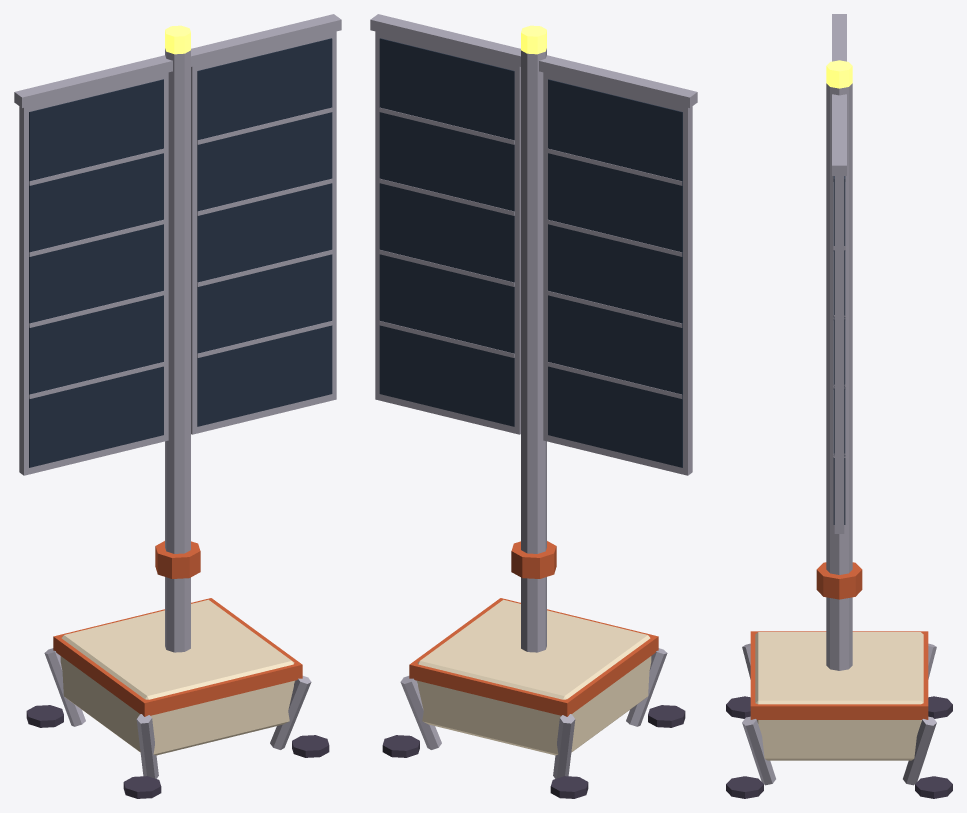
The model's file is MOONSHIFT_FAC_Solar_Tower.glb.
3 renders of one model, left to right at view 1: azimuth 30°, elevation 25°; view 2: azimuth 150°, elevation 25°; view 3: azimuth 270°, elevation 25°, orthographic. The views are drawn at different scales.
Visible parts, largest first — view 1: SolarT_Panel1, SolarT_Panel-1, SolarT_Base, SolarT_Mast, SolarT_Frame-1, SolarT_Frame1, SolarT_TopBar, SolarT_BaseBand, SolarT_MastCollar, SolarT_Leg2, SolarT_Leg3, SolarT_Leg1 (+12 smaller); view 2: SolarT_Panel1, SolarT_Panel-1, SolarT_Base, SolarT_Mast, SolarT_Frame-1, SolarT_Frame1, SolarT_TopBar, SolarT_BaseBand, SolarT_MastCollar, SolarT_Leg0, SolarT_Leg1, SolarT_Leg3 (+12 smaller); view 3: SolarT_Base, SolarT_Mast, SolarT_Frame1, SolarT_BaseBand, SolarT_TopBar, SolarT_Panel1, SolarT_MastCollar, SolarT_Leg0, SolarT_Leg2, SolarT_Foot0, SolarT_Foot2, SolarT_Beacon (+2 smaller).
Part boxes in pixels (left/top/right/bottom): SolarT_Panel1: left=197, top=38, right=332, bottom=426; SolarT_Panel-1: left=29, top=79, right=163, bottom=467; SolarT_Base: left=60, top=599, right=294, bottom=755; SolarT_Mast: left=165, top=48, right=190, bottom=652; SolarT_Frame-1: left=19, top=72, right=168, bottom=475; SolarT_Frame1: left=191, top=31, right=336, bottom=434; SolarT_TopBar: left=14, top=14, right=341, bottom=107; SolarT_BaseBand: left=53, top=598, right=302, bottom=716; SolarT_MastCollar: left=155, top=541, right=200, bottom=578; SolarT_Leg2: left=270, top=676, right=311, bottom=749; SolarT_Leg3: left=136, top=714, right=158, bottom=778; SolarT_Leg1: left=44, top=648, right=85, bottom=726; SolarT_Panel1: left=379, top=38, right=514, bottom=426; SolarT_Panel-1: left=548, top=79, right=682, bottom=467; SolarT_Base: left=417, top=599, right=651, bottom=755; SolarT_Mast: left=521, top=48, right=546, bottom=652; SolarT_Frame-1: left=543, top=72, right=692, bottom=475; SolarT_Frame1: left=375, top=31, right=520, bottom=434; SolarT_TopBar: left=370, top=14, right=697, bottom=107; SolarT_BaseBand: left=409, top=598, right=658, bottom=716; SolarT_MastCollar: left=511, top=541, right=556, bottom=578; SolarT_Leg0: left=400, top=676, right=441, bottom=749; SolarT_Leg1: left=553, top=714, right=575, bottom=778; SolarT_Leg3: left=626, top=648, right=667, bottom=726; SolarT_Base: left=755, top=632, right=923, bottom=760; SolarT_Mast: left=826, top=83, right=852, bottom=670; SolarT_Frame1: left=834, top=176, right=844, bottom=533; SolarT_BaseBand: left=750, top=631, right=928, bottom=719; SolarT_TopBar: left=832, top=14, right=846, bottom=175; SolarT_Panel1: left=833, top=176, right=845, bottom=524; SolarT_MastCollar: left=816, top=562, right=862, bottom=599; SolarT_Leg0: left=903, top=716, right=936, bottom=785; SolarT_Leg2: left=742, top=716, right=775, bottom=785; SolarT_Foot0: left=915, top=776, right=952, bottom=798; SolarT_Foot2: left=726, top=776, right=763, bottom=798; SolarT_Beacon: left=826, top=60, right=852, bottom=88.
Size of the model in its own units: 1.9 by 4.01 by 1.2.
